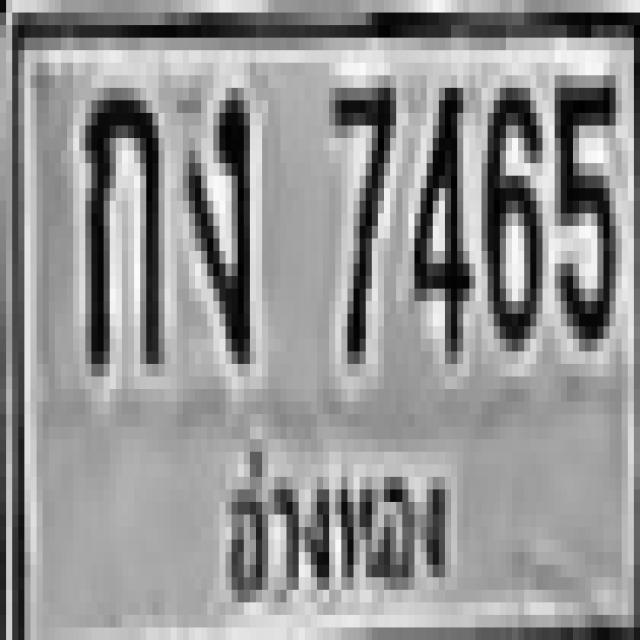10GorGai: (80, 75, 158, 364)
16NgorNgu: (183, 81, 250, 358)
4: (408, 76, 469, 352)
5: (552, 63, 612, 339)
6: (482, 75, 536, 339)
7: (329, 76, 390, 352)
AngThong: (208, 430, 462, 614)
